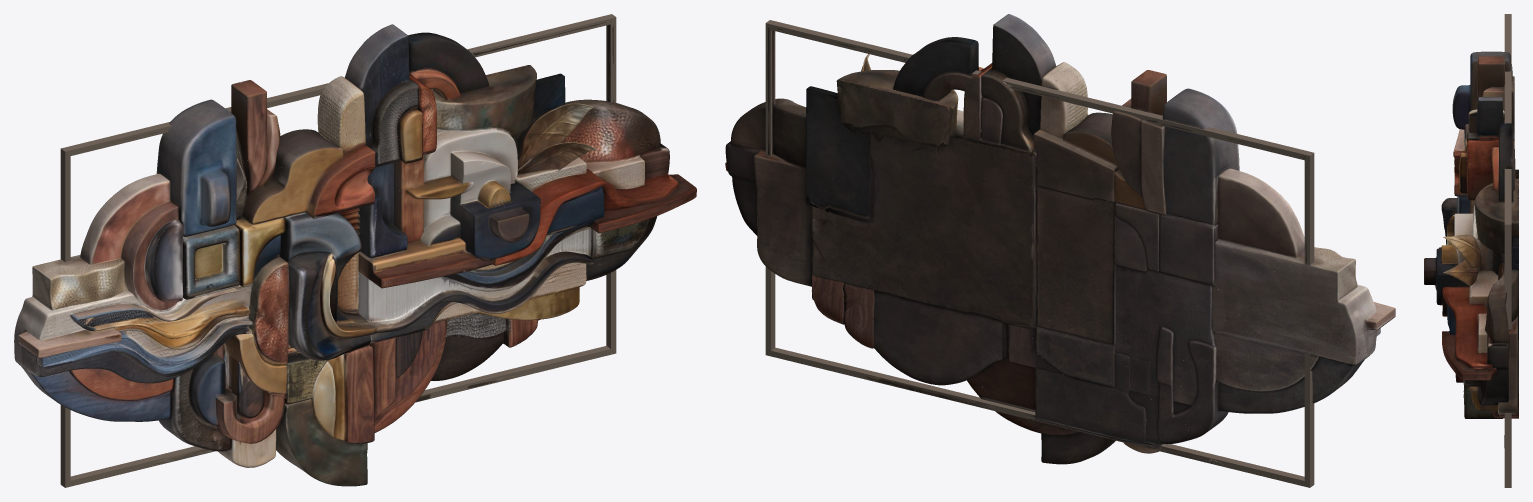
The model's file is H71-web.glb.
3 views of the same model, side by side, from view 1: azimuth 30°, elevation 25°; view 2: azimuth 150°, elevation 25°; view 3: azimuth 270°, elevation 25° (orthographic). The views are drawn at different scales.
Parts seen in each view (by area): view 1: tripo_node_2ecc57ef-c419-424c-8206-328313c89ac8, frame; view 2: tripo_node_2ecc57ef-c419-424c-8206-328313c89ac8, frame; view 3: tripo_node_2ecc57ef-c419-424c-8206-328313c89ac8, frame.
Part boxes in pixels (x1,y1,x2,y2): tripo_node_2ecc57ef-c419-424c-8206-328313c89ac8: [14, 21, 696, 486]; frame: [60, 14, 616, 487]; tripo_node_2ecc57ef-c419-424c-8206-328313c89ac8: [725, 14, 1395, 464]; frame: [765, 20, 1314, 487]; tripo_node_2ecc57ef-c419-424c-8206-328313c89ac8: [1424, 51, 1518, 447]; frame: [1504, 14, 1511, 487].
Bounding box in the file's own units: 0.6 × 0.3746 × 0.0953.
Materials: 2 (1 with a texture image).
